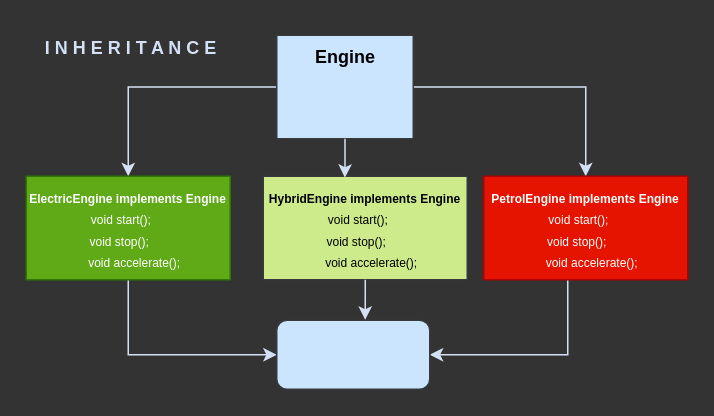
Some shapes in this 714 by 416 pixel diagram are drawn without their labels. The box of each missing label's shape, as (x1, y1, x2, y2) in pixels:
Business Class: (275, 319, 430, 389)
void start(); void stop(); void accelerate();: (275, 34, 413, 139)
